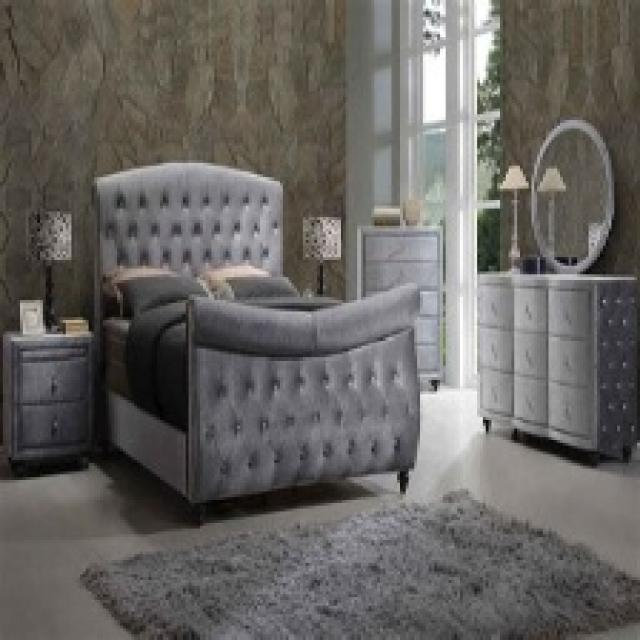Bed: (89, 160, 420, 523)
